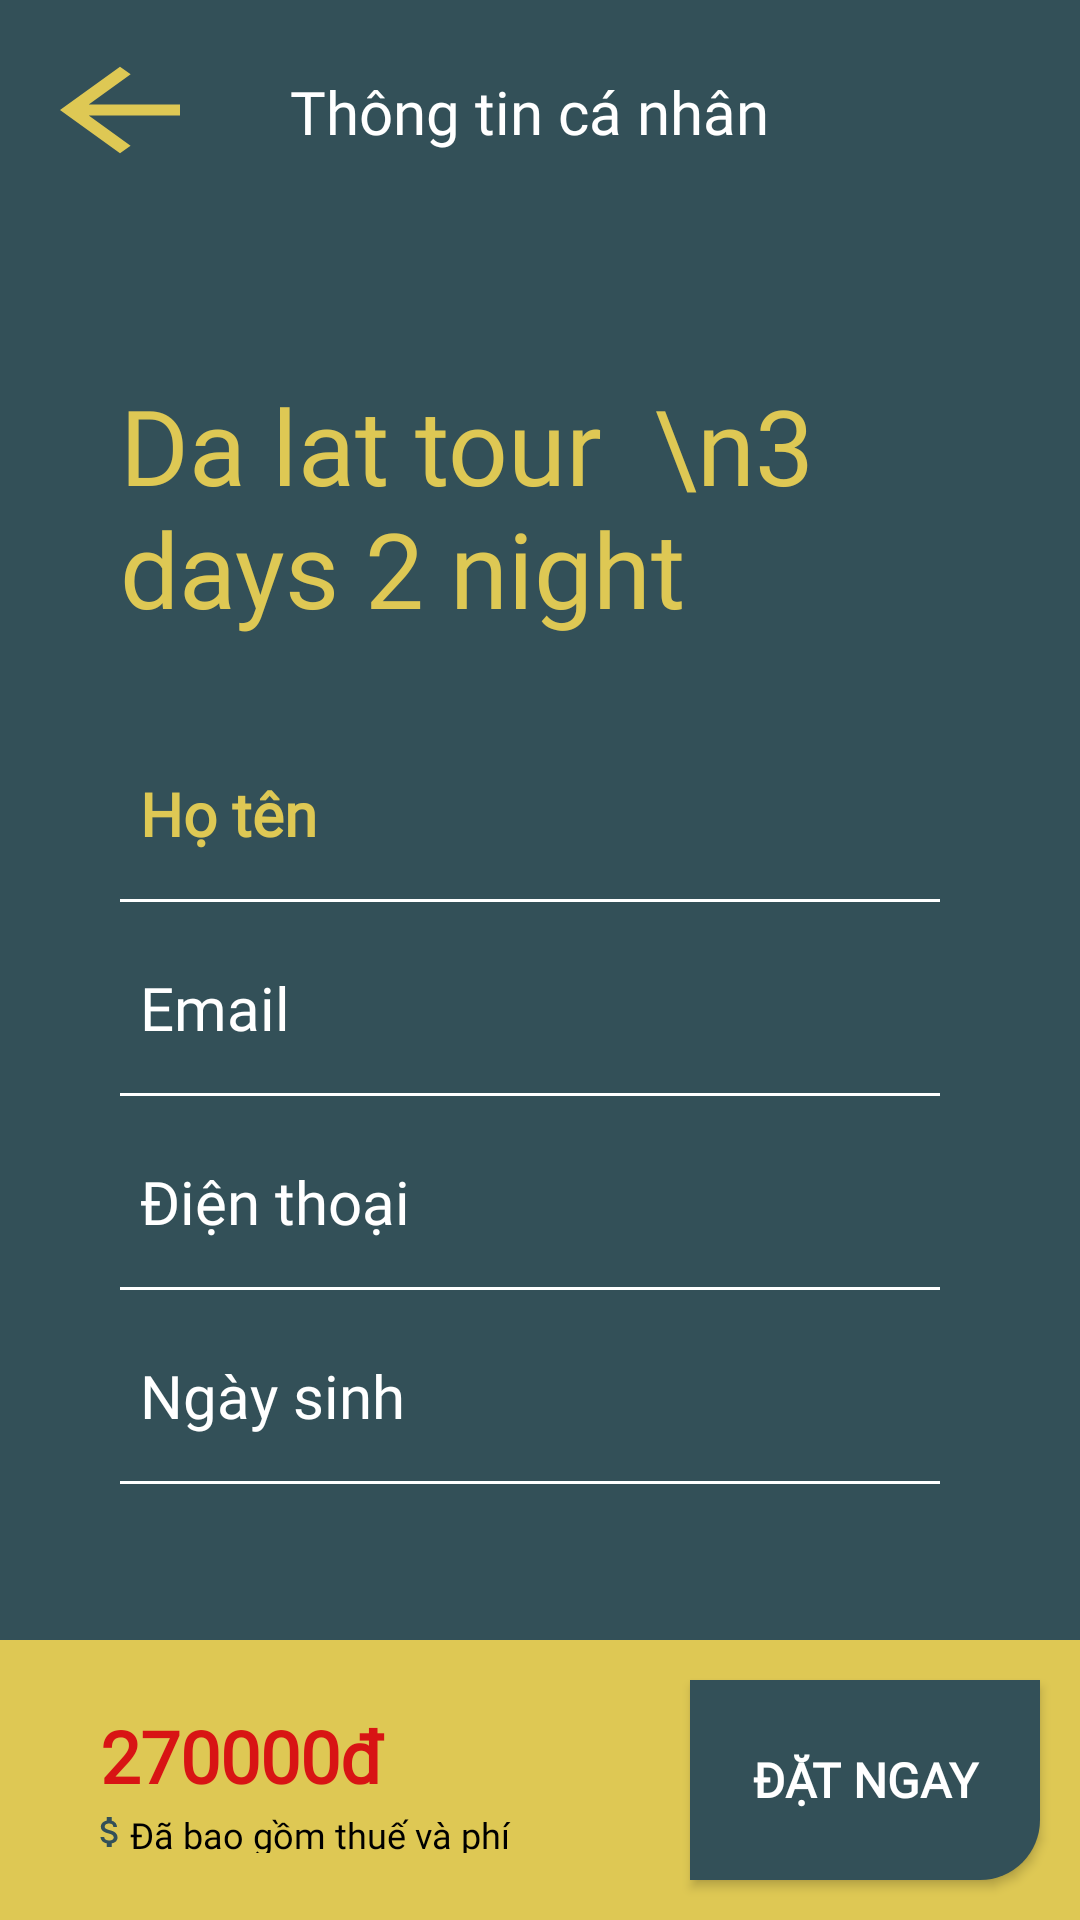

Named icons in this screenshot (1080px x 1920px) and their centers, [x,y]:
arrow back: [120,110]
attach money: [109,1832]
